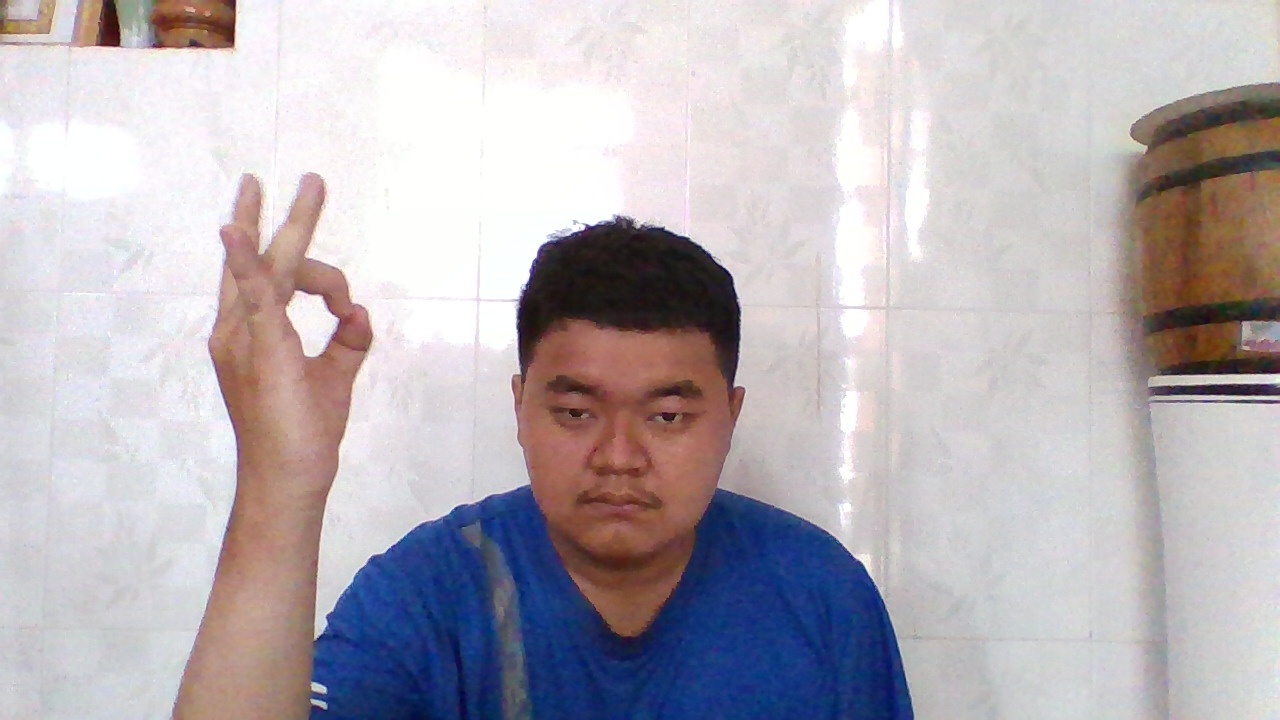H: (214, 157, 379, 505)
